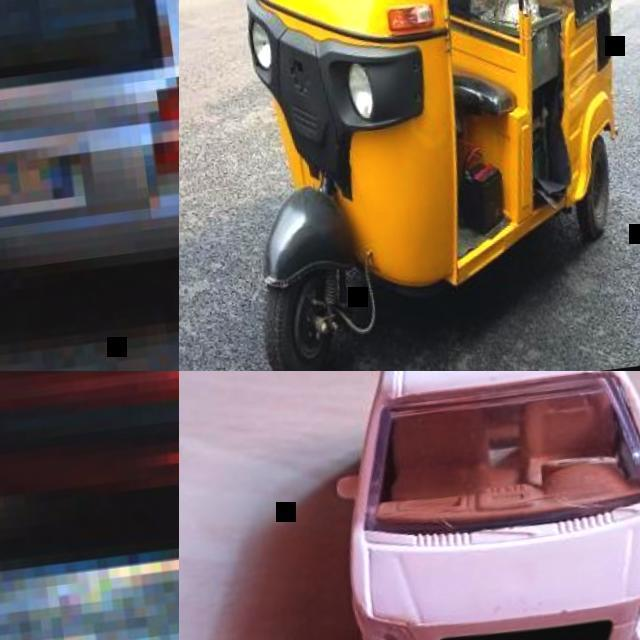car: (247, 0, 622, 334), (1, 0, 181, 309)
